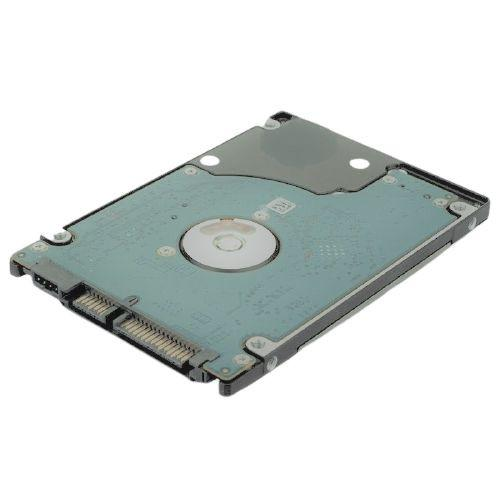internal HDD: (10, 112, 492, 398)
